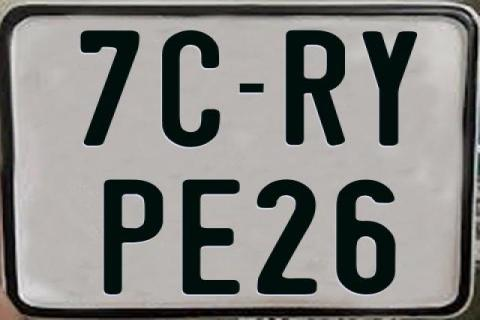0: (255, 179, 318, 295), (77, 29, 137, 149), (335, 178, 395, 294)
C: (160, 30, 222, 148)
E: (182, 177, 241, 293)
P: (104, 178, 168, 298)
R: (285, 28, 347, 144)
Y: (360, 32, 417, 146)
